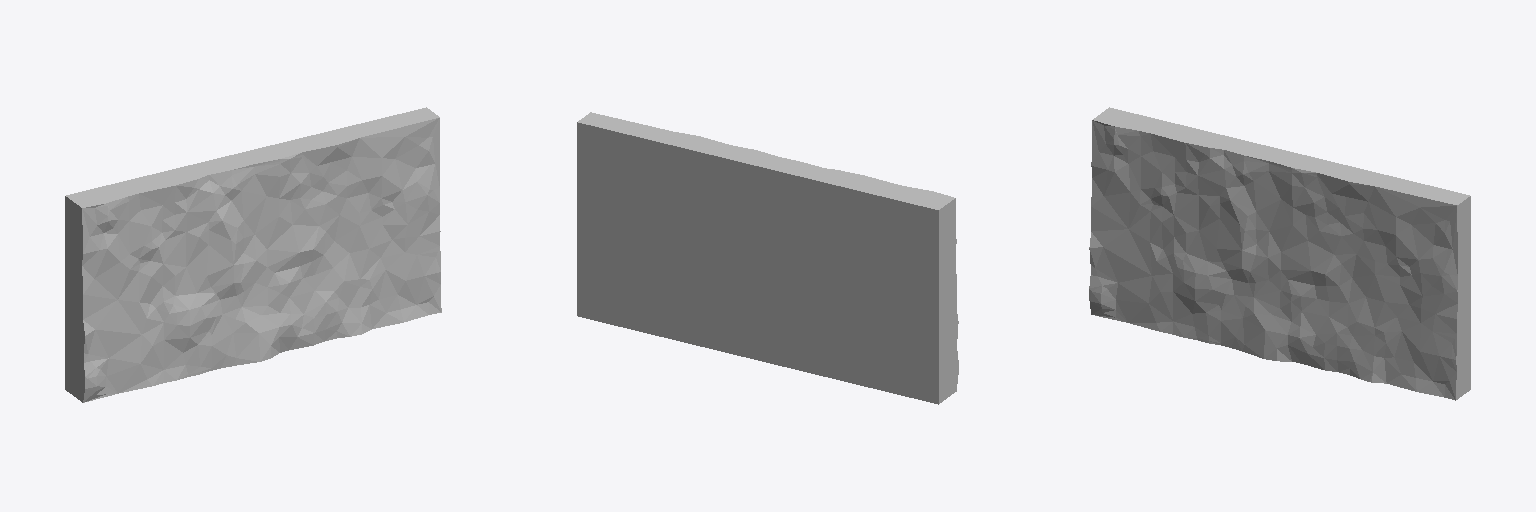
File: Tallaght_TUDublin_Floor v2.obj
3 renders of one model, left to right at view 1: azimuth 30°, elevation 25°; view 2: azimuth 150°, elevation 25°; view 3: azimuth 330°, elevation 25°, orthographic.
Parts seen in each view (by area): view 1: Body56; view 2: Body56; view 3: Body56.
Part boxes in pixels (x1,y1,x2,y2): Body56: (65, 107, 441, 402); Body56: (577, 112, 958, 404); Body56: (1089, 107, 1470, 400).
Bounding box in the file's own units: 80.53 × 41.32 × 7.82.